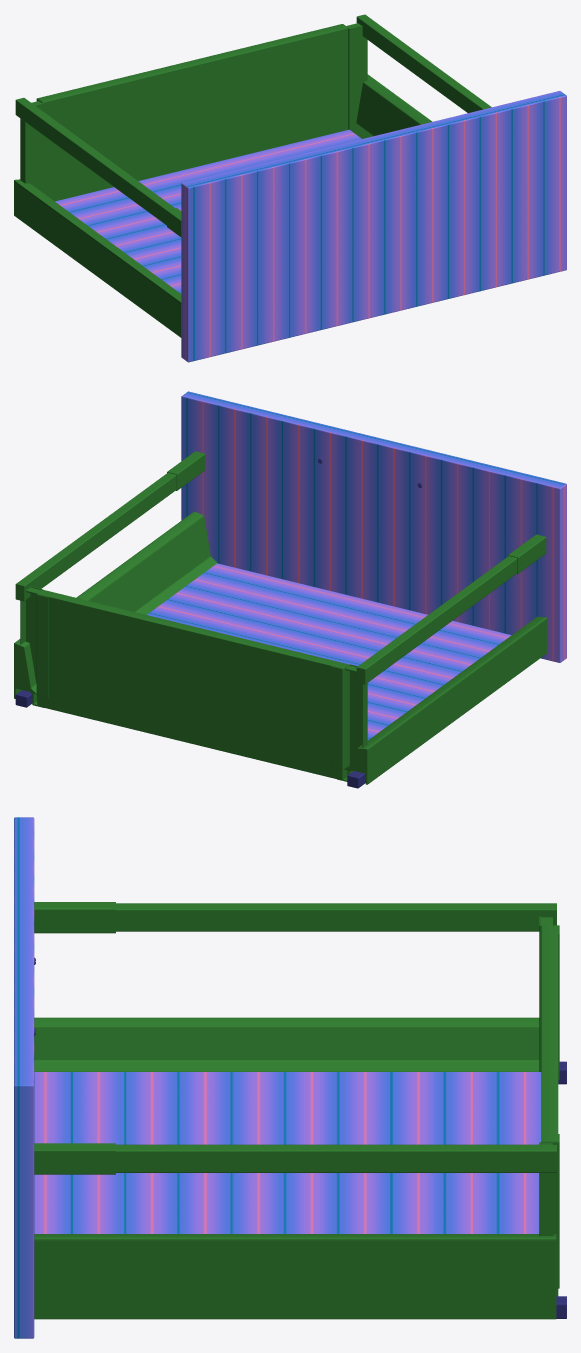
Rendered from SM_Kitchen_01_Drawer_01.fbx.
3 renders of one model, top to bottom at view 1: azimuth 30°, elevation 25°; view 2: azimuth 150°, elevation 25°; view 3: azimuth 270°, elevation 25°, orthographic. The views are drawn at different scales.
Visible parts, largest first — view 1: SM_Kitchen_01_Drawer_01; view 2: SM_Kitchen_01_Drawer_01; view 3: SM_Kitchen_01_Drawer_01.
Part boxes in pixels (<box>): SM_Kitchen_01_Drawer_01: <box>14,14,566,362</box>; SM_Kitchen_01_Drawer_01: <box>14,391,566,788</box>; SM_Kitchen_01_Drawer_01: <box>14,817,566,1338</box>.
Size of the model in its own units: 59.69 by 26.3 by 51.99.
Materials: 4 (2 with a texture image).
